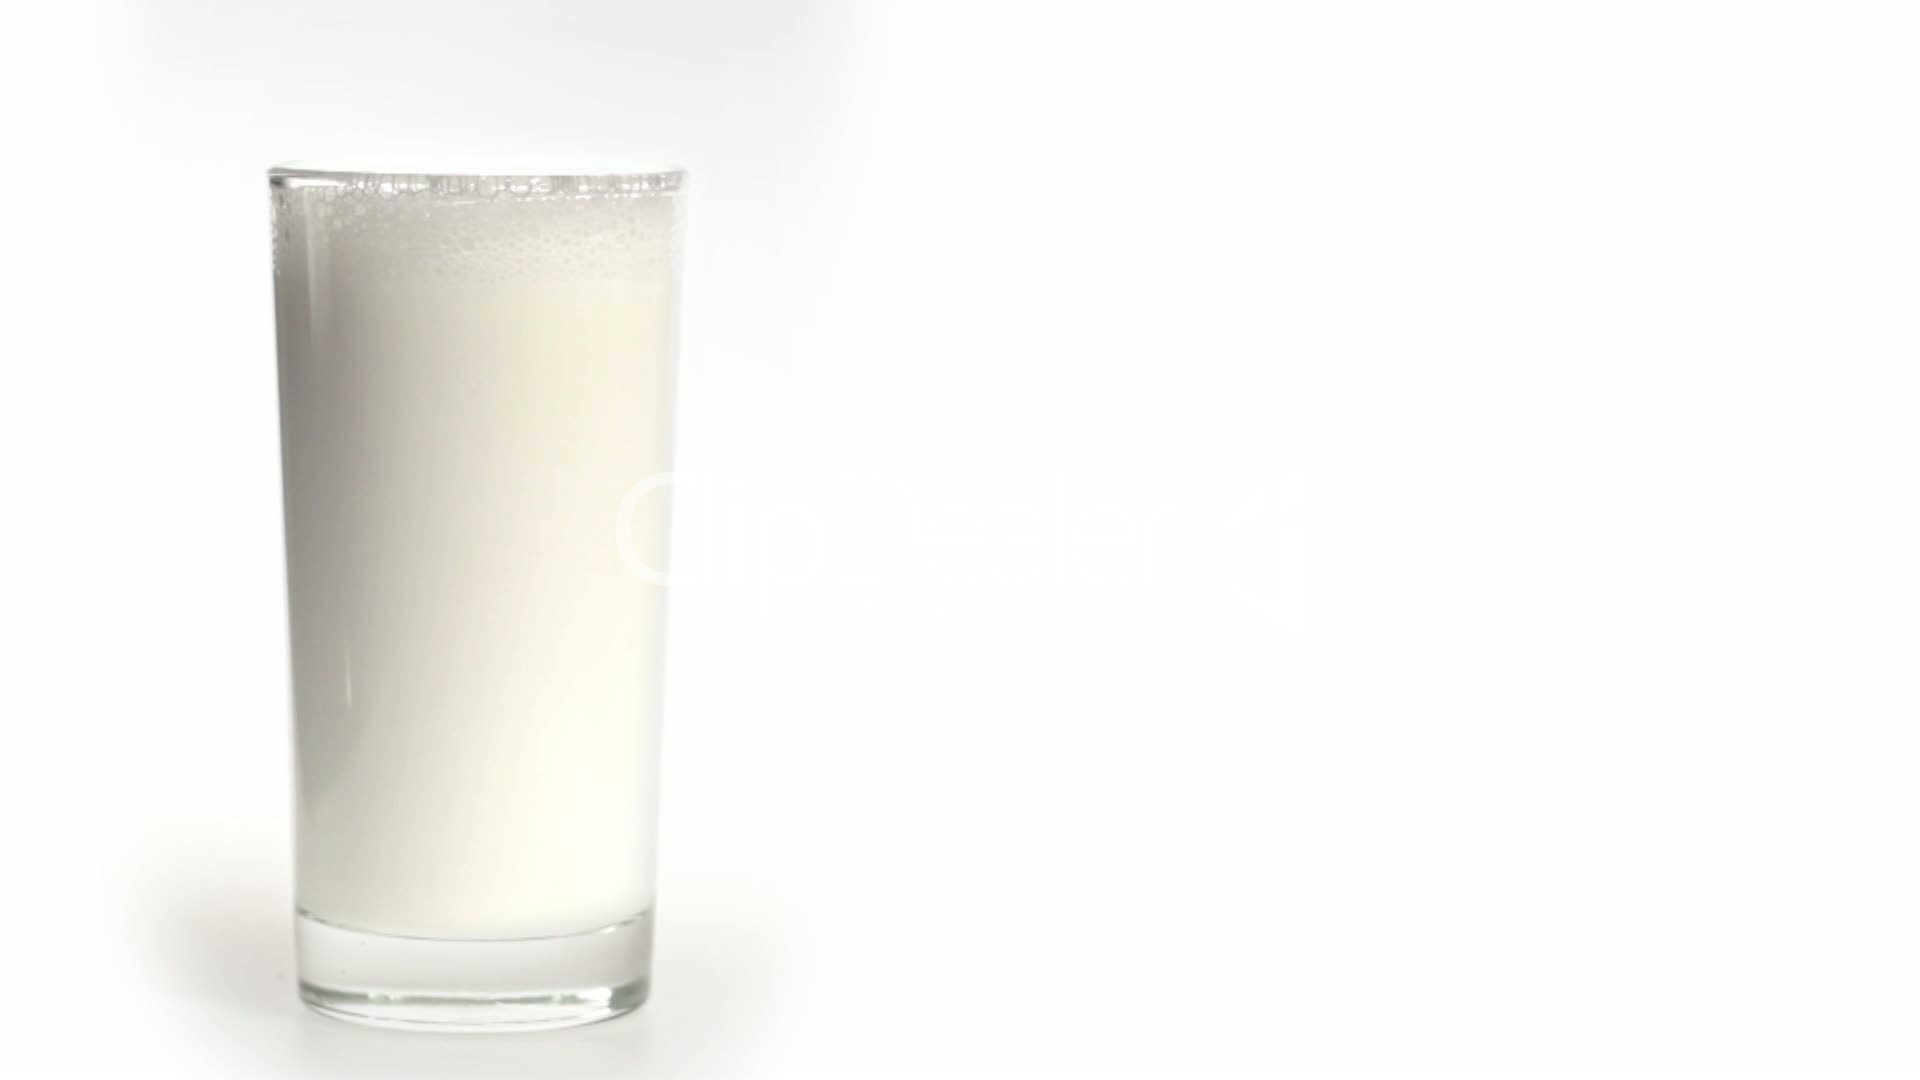glass of milk: (258, 152, 687, 1034)
